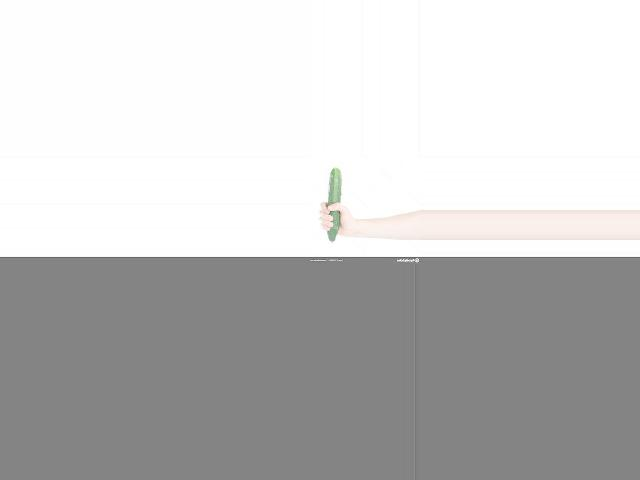cucumber: (326, 168, 341, 243)
